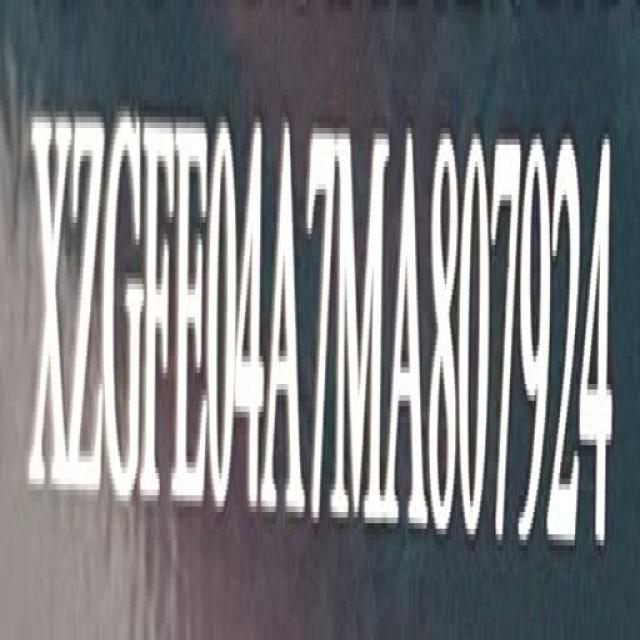0: (458, 124, 492, 546), (208, 121, 236, 520)
2: (552, 147, 582, 557)
4: (580, 128, 615, 563), (234, 113, 267, 529)
7: (304, 116, 336, 541), (492, 128, 522, 548)
8: (426, 119, 464, 546)
9: (520, 126, 552, 550)
A: (266, 108, 302, 533), (391, 116, 426, 538)
E: (177, 108, 212, 520)
F: (144, 104, 176, 525)
G: (106, 106, 142, 520)
M: (336, 120, 388, 537)
X: (33, 93, 68, 513)
Z: (66, 106, 106, 514)
